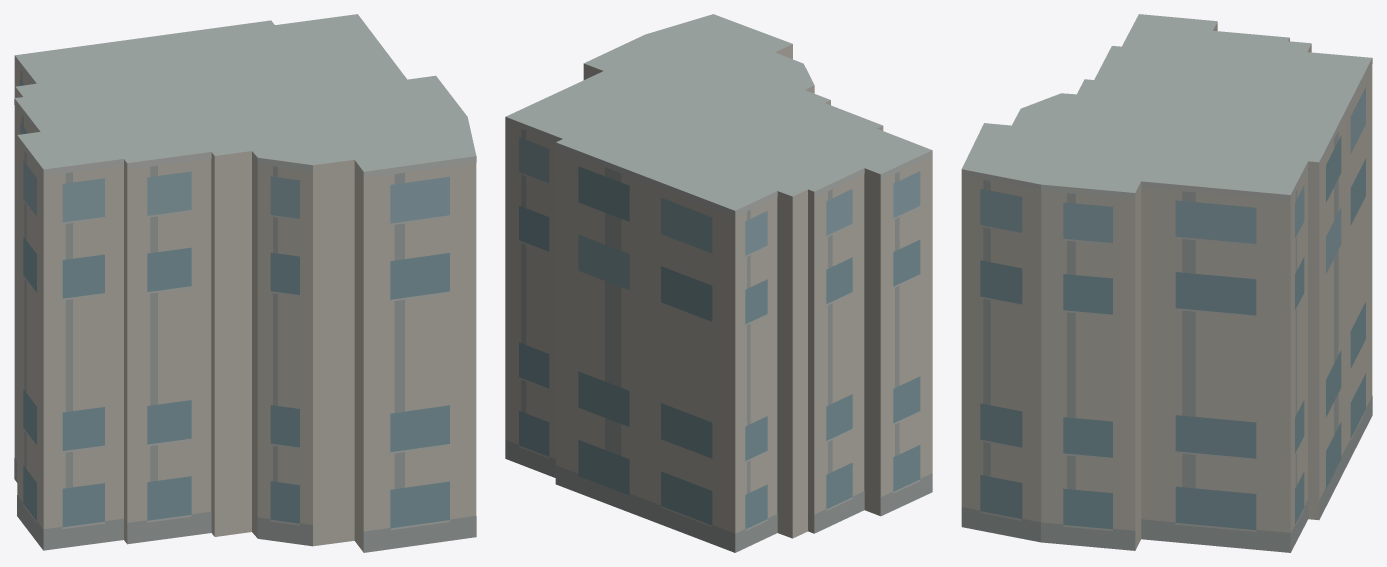
Rendered from survey-upis-32494509.glb.
The picture shows the model from 3 angles, left to right: view 1: azimuth 30°, elevation 25°; view 2: azimuth 150°, elevation 25°; view 3: azimuth 270°, elevation 25°; orthographic projection. The views are drawn at different scales.
Visible parts, largest first — view 1: survey-upis-32494509.tmp; view 2: survey-upis-32494509.tmp; view 3: survey-upis-32494509.tmp.
Boxes of the visible parts, x1,y1,x2,y2 form: survey-upis-32494509.tmp: (14, 14, 476, 552); survey-upis-32494509.tmp: (505, 14, 932, 552); survey-upis-32494509.tmp: (961, 14, 1372, 552).
Bounding box in the file's own units: 15.2 × 14 × 14.57.
